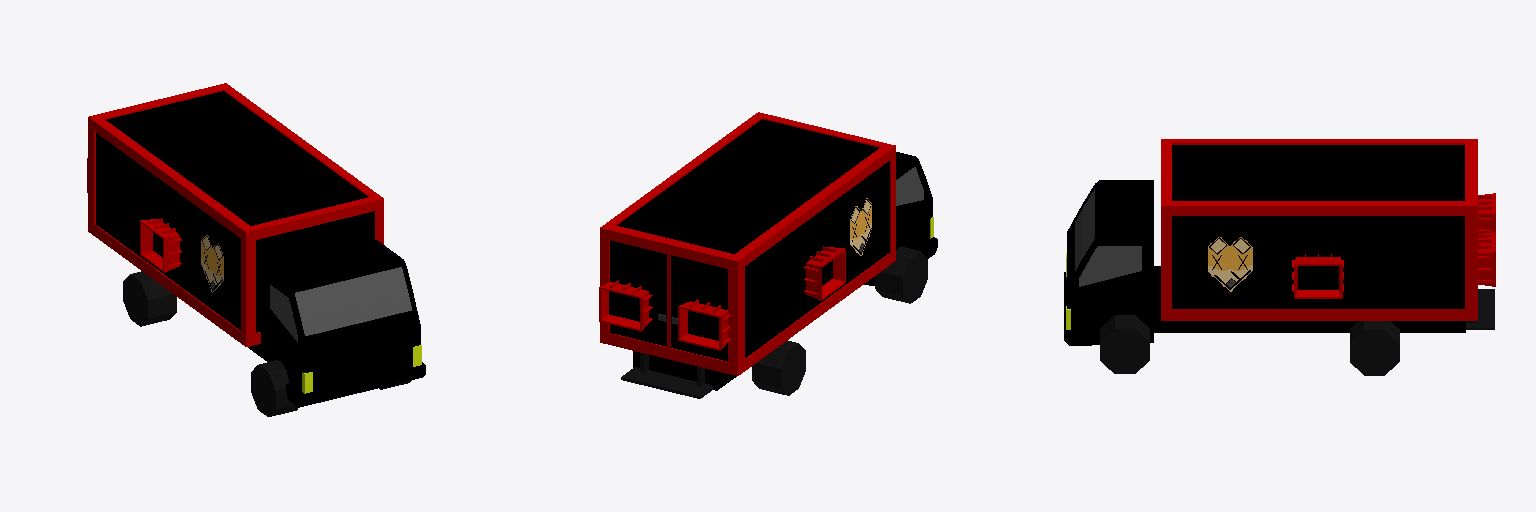
3 renders of one model, left to right at view 1: azimuth 30°, elevation 25°; view 2: azimuth 150°, elevation 25°; view 3: azimuth 270°, elevation 25°, orthographic.
Visible parts, largest first — view 1: TruckBed, GarbageTruck, Wheel.001, Wheel, Launcher.001, FoxDecals.001; view 2: TruckBed, GarbageTruck, Launcher.002, Wheel.001, Wheel, Launcher.001, Stand, FoxDecals.001; view 3: TruckBed, GarbageTruck, Wheel, Wheel.001, Launcher, FoxDecals, Launcher.002, Stand.
Boxes of the visible parts, x1=… form: TruckBed: x1=88, y1=83, x2=383, y2=346; GarbageTruck: x1=248, y1=240, x2=425, y2=407; Wheel.001: x1=123, y1=271, x2=176, y2=326; Wheel: x1=251, y1=360, x2=411, y2=416; Launcher.001: x1=140, y1=218, x2=181, y2=272; FoxDecals.001: x1=201, y1=234, x2=223, y2=293; TruckBed: x1=600, y1=112, x2=895, y2=375; GarbageTruck: x1=633, y1=152, x2=937, y2=390; Launcher.002: x1=599, y1=280, x2=730, y2=350; Wheel.001: x1=752, y1=340, x2=805, y2=395; Wheel: x1=875, y1=246, x2=927, y2=303; Launcher.001: x1=804, y1=246, x2=845, y2=300; Stand: x1=621, y1=353, x2=713, y2=398; FoxDecals.001: x1=850, y1=197, x2=872, y2=256; TruckBed: x1=1161, y1=139, x2=1477, y2=320; GarbageTruck: x1=1064, y1=180, x2=1465, y2=345; Wheel: x1=1100, y1=315, x2=1149, y2=373; Wheel.001: x1=1350, y1=321, x2=1399, y2=375; Launcher: x1=1292, y1=254, x2=1343, y2=298; FoxDecals: x1=1207, y1=236, x2=1252, y2=291; Launcher.002: x1=1478, y1=193, x2=1495, y2=286; Stand: x1=1466, y1=289, x2=1494, y2=329.
Size of the model in its own units: 30 by 28.29 by 66.13.
Materials: 7 (1 with a texture image).